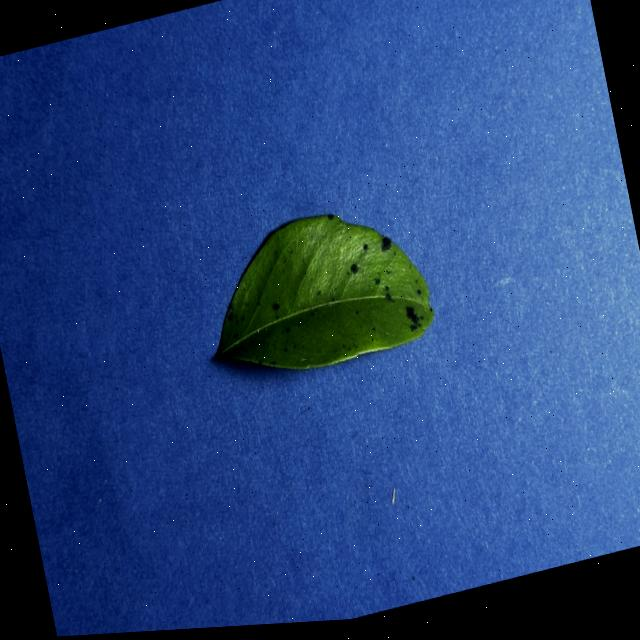sooty_mold: (216, 215, 433, 369)
